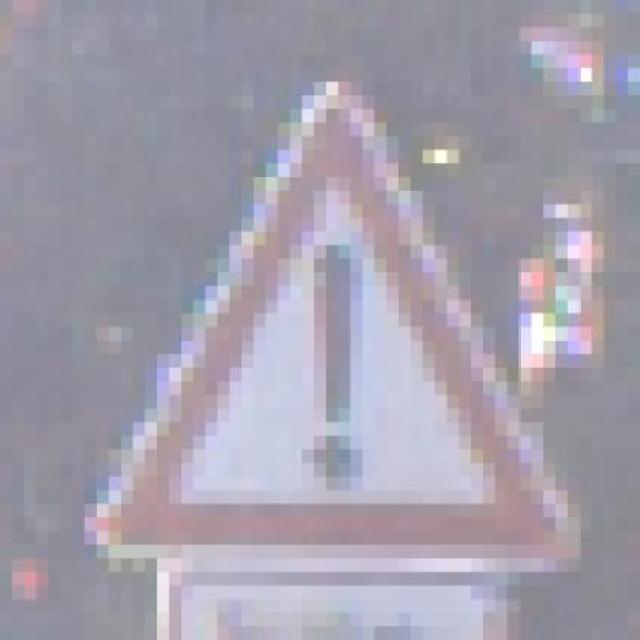Attention Please-: (56, 77, 612, 568)
